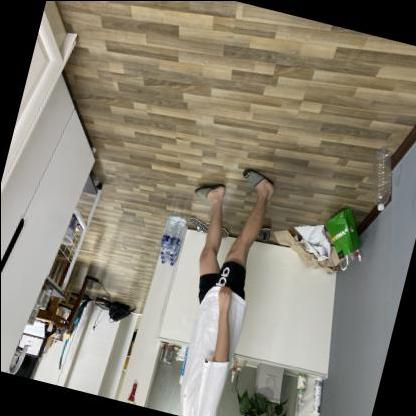no_safety-shoe: (186, 165, 236, 213), (237, 160, 284, 200)
